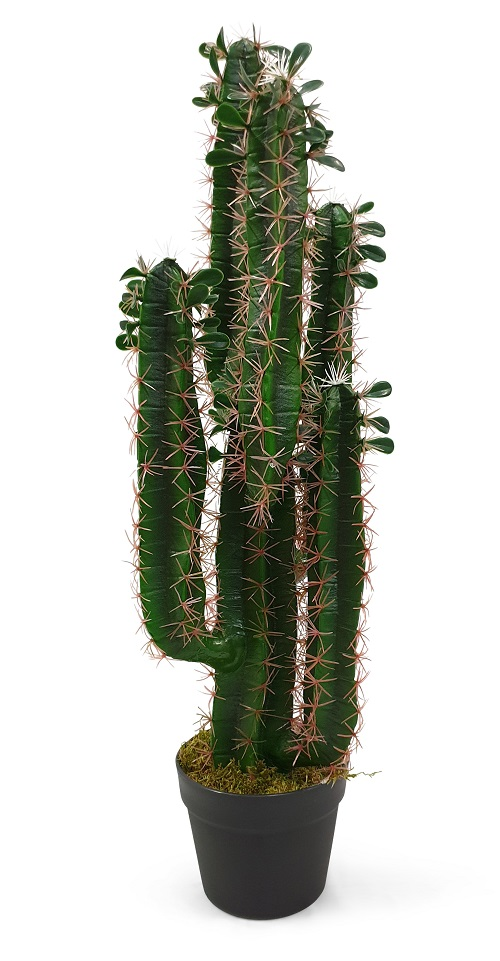plant: (117, 24, 398, 922)
